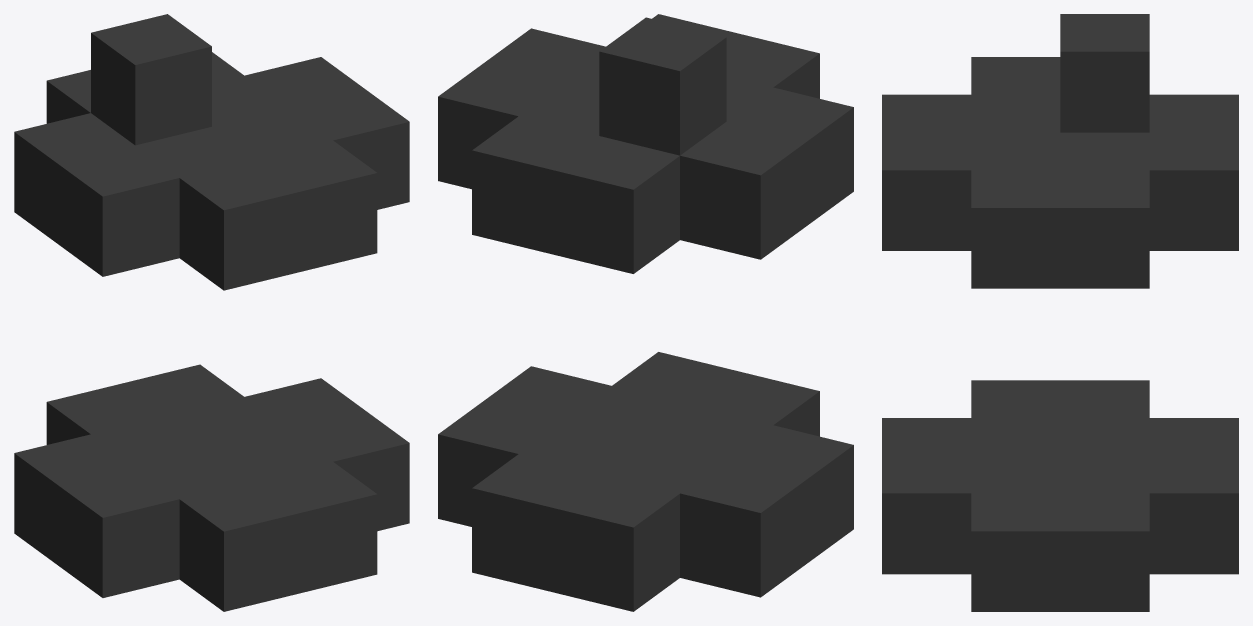
Rendered from Metal Poste.obj.
3 views of the same model, side by side, from view 1: azimuth 30°, elevation 25°; view 2: azimuth 150°, elevation 25°; view 3: azimuth 270°, elevation 25° (orthographic). The views are drawn at different scales.
Bounding box in the file's own units: 0.4 × 0.6 × 0.4.
1 material, 1 textured.
